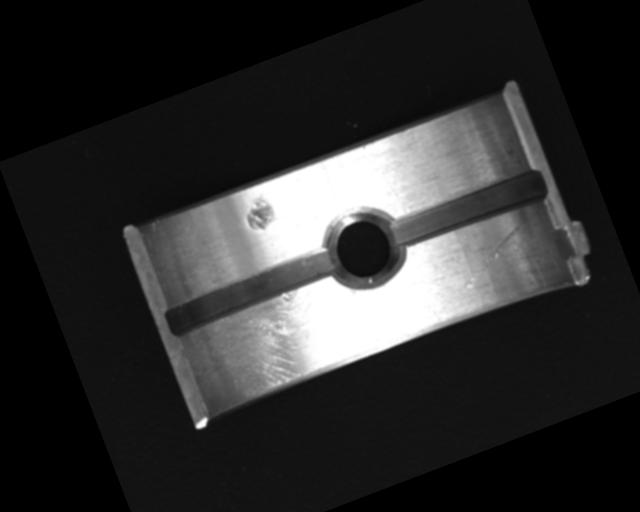bruise: (239, 193, 279, 236)
gap: (162, 242, 344, 341), (386, 165, 549, 254)
hole: (316, 197, 412, 297)
nick: (450, 218, 540, 291)
scratch: (183, 273, 370, 414)
